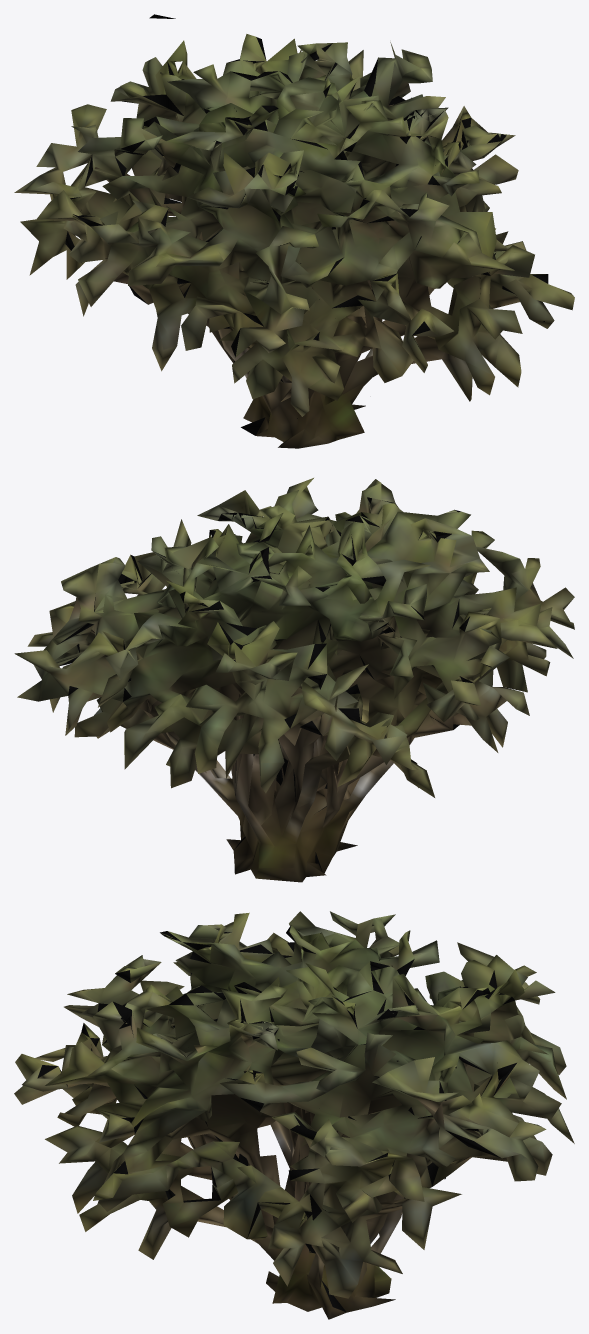
File: shrub_laurel.glb
3 renders of one model, top to bottom at view 1: azimuth 30°, elevation 25°; view 2: azimuth 150°, elevation 25°; view 3: azimuth 270°, elevation 25°, orthographic. The views are drawn at different scales.
Visible parts, largest first — view 1: MV_shrub_laurel; view 2: MV_shrub_laurel; view 3: MV_shrub_laurel.
Boxes of the visible parts, x1=… form: MV_shrub_laurel: x1=14, y1=14, x2=574, y2=448; MV_shrub_laurel: x1=14, y1=478, x2=574, y2=882; MV_shrub_laurel: x1=14, y1=911, x2=574, y2=1319.
Bounding box in the file's own units: 1.11 × 0.83 × 1.2.
Materials: 1 (1 with a texture image).
